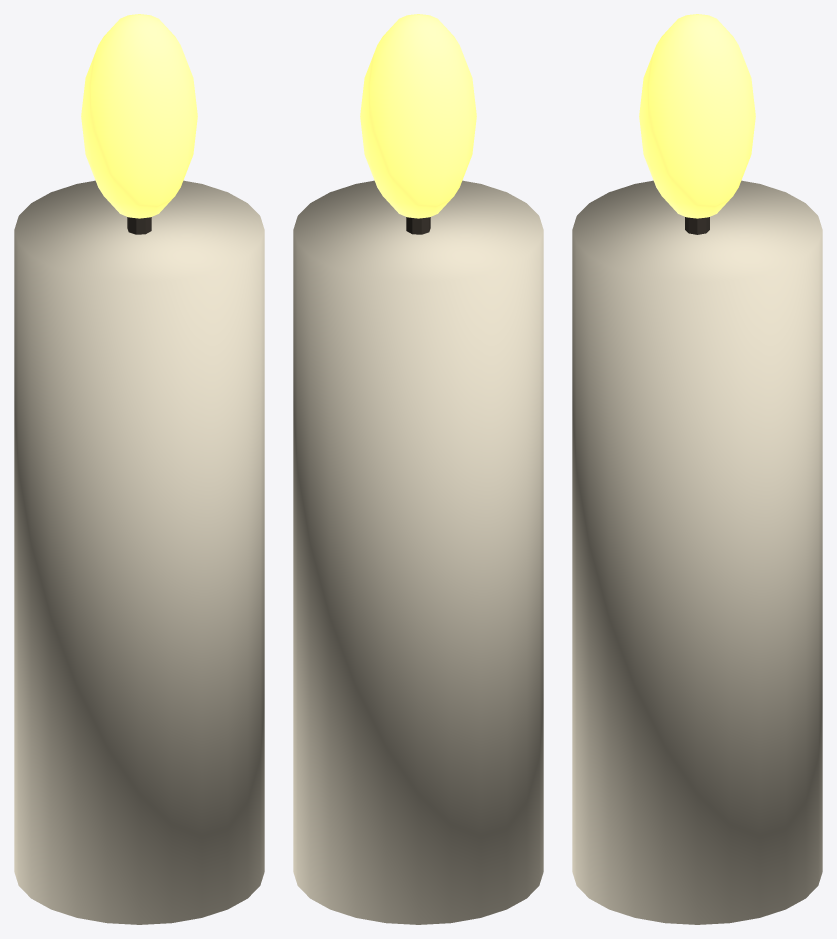
Rendered from candle.glb.
3 views of the same model, side by side, from view 1: azimuth 30°, elevation 25°; view 2: azimuth 150°, elevation 25°; view 3: azimuth 270°, elevation 25° (orthographic).
Parts seen in each view (by area): view 1: CandleUnlit, CandleLit; view 2: CandleUnlit, CandleLit; view 3: CandleUnlit, CandleLit.
Boxes of the visible parts, x1,y1,x2,y2 form: CandleUnlit: (14,180,264,924); CandleLit: (81,14,197,218); CandleUnlit: (293,180,543,924); CandleLit: (360,14,476,218); CandleUnlit: (572,180,822,924); CandleLit: (639,14,755,218).
Bounding box in the file's own units: 0.12 × 0.4532 × 0.12.
